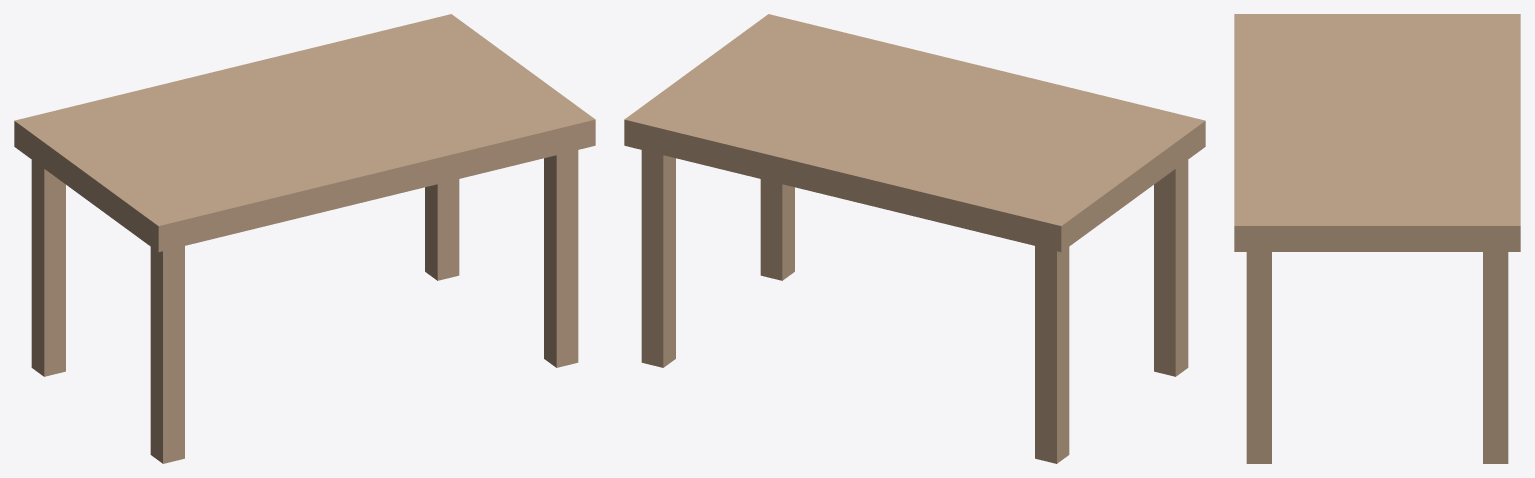
The model's file is table.glb.
The picture shows the model from 3 angles, left to right: view 1: azimuth 30°, elevation 25°; view 2: azimuth 150°, elevation 25°; view 3: azimuth 270°, elevation 25°; orthographic projection.
Visible parts, largest first — view 1: top, leg_-1_1, leg_1_1, leg_-1_-1, leg_1_-1; view 2: top, leg_-1_-1, leg_1_-1, leg_-1_1, leg_1_1; view 3: top, leg_1_-1, leg_1_1.
Part boxes in pixels (box(x1,y1,x2,y2)): top: box(14, 14, 595, 252); leg_-1_1: box(150, 246, 184, 463); leg_1_1: box(544, 150, 578, 367); leg_-1_-1: box(31, 160, 65, 376); leg_1_-1: box(425, 179, 459, 280); top: box(624, 14, 1205, 252); leg_-1_-1: box(1035, 246, 1069, 463); leg_1_-1: box(641, 150, 675, 367); leg_-1_1: box(1154, 160, 1188, 376); leg_1_1: box(760, 179, 794, 280); top: box(1234, 14, 1520, 251); leg_1_-1: box(1483, 252, 1508, 463); leg_1_1: box(1246, 252, 1271, 463).
Size of the model in its own units: 1.4 by 0.75 by 0.8.
